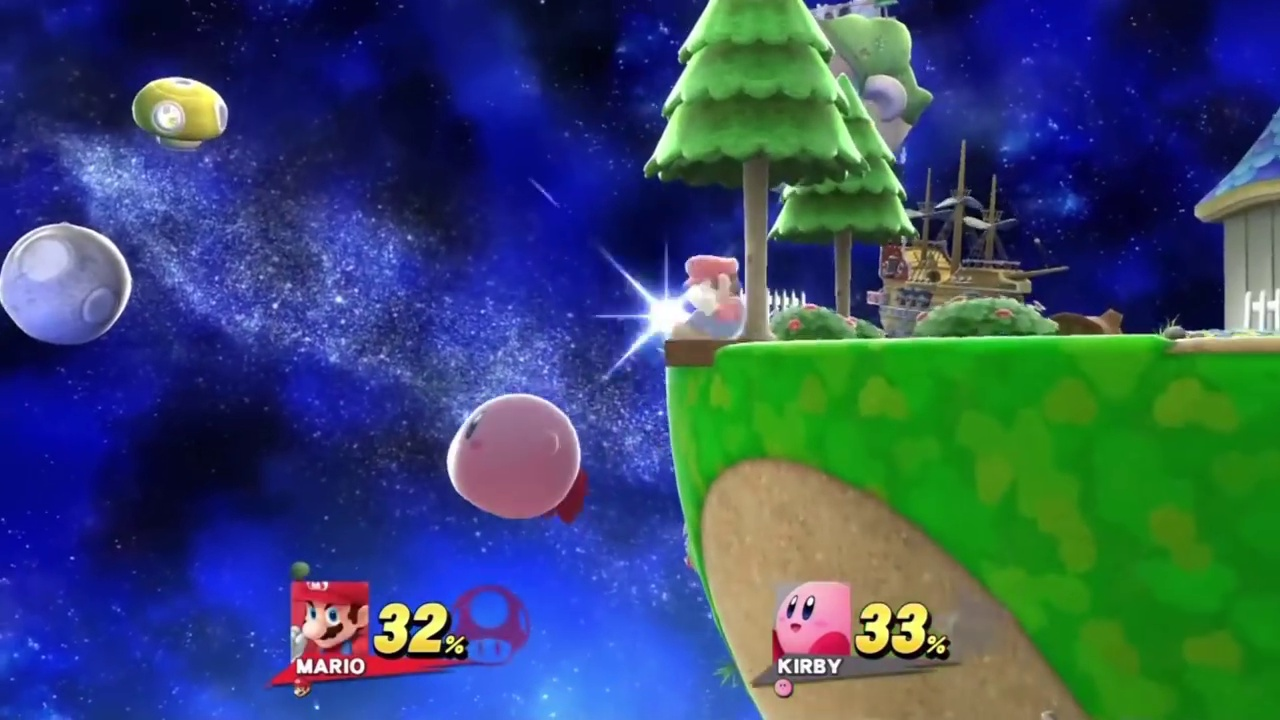Mario: (670, 254, 741, 339)
